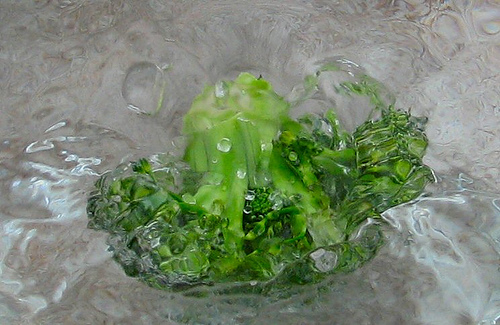broccoli: (84, 69, 430, 296)
